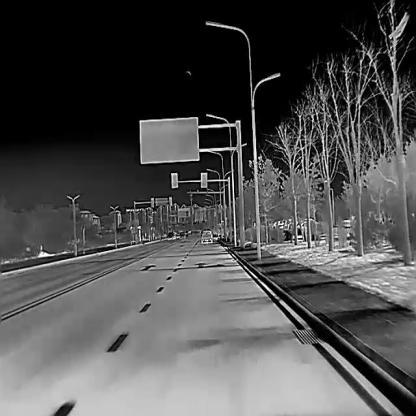car: (200, 228, 213, 242), (166, 230, 176, 239), (179, 229, 185, 238)
